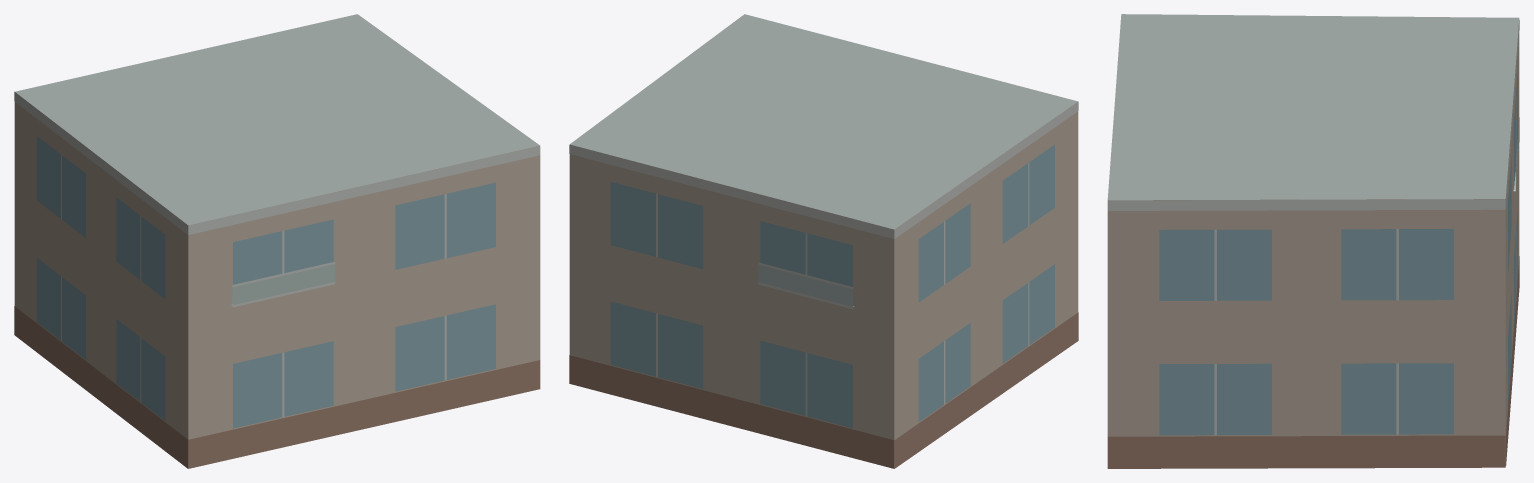
The model's file is survey-upis-32499932.glb.
3 views of the same model, side by side, from view 1: azimuth 30°, elevation 25°; view 2: azimuth 150°, elevation 25°; view 3: azimuth 270°, elevation 25° (orthographic). The views are drawn at different scales.
Visible parts, largest first — view 1: survey-upis-32499932.tmp; view 2: survey-upis-32499932.tmp; view 3: survey-upis-32499932.tmp.
Part boxes in pixels (bbox=[...]): survey-upis-32499932.tmp: bbox=[14, 14, 540, 468]; survey-upis-32499932.tmp: bbox=[569, 14, 1078, 468]; survey-upis-32499932.tmp: bbox=[1107, 14, 1519, 468].
Size of the model in its own units: 9.08 by 6.1 by 8.49.
